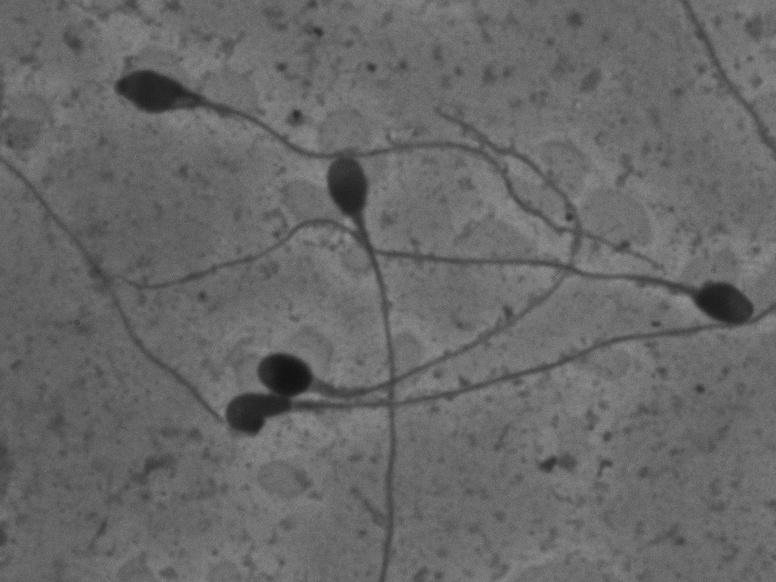Abnormal: (106, 58, 667, 275), (102, 209, 758, 340), (214, 314, 707, 449)
Normal: (248, 90, 591, 403), (315, 154, 403, 569)
